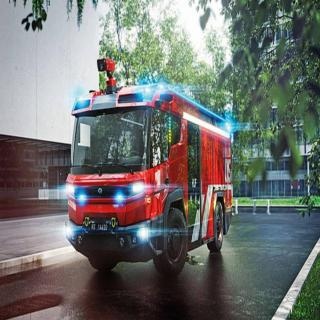Fire_truck: (65, 57, 233, 277)
